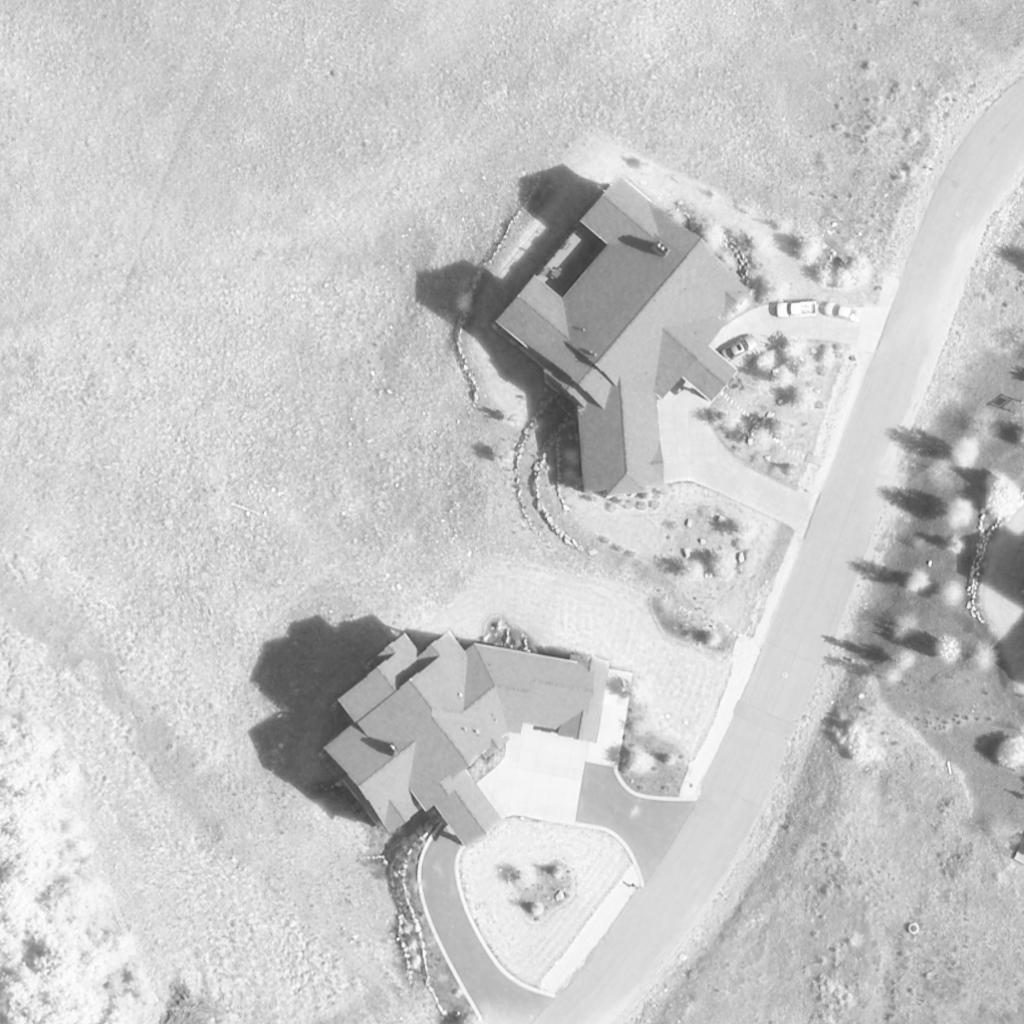vehicle: (770, 296, 818, 318), (721, 337, 757, 363), (823, 302, 861, 324)
